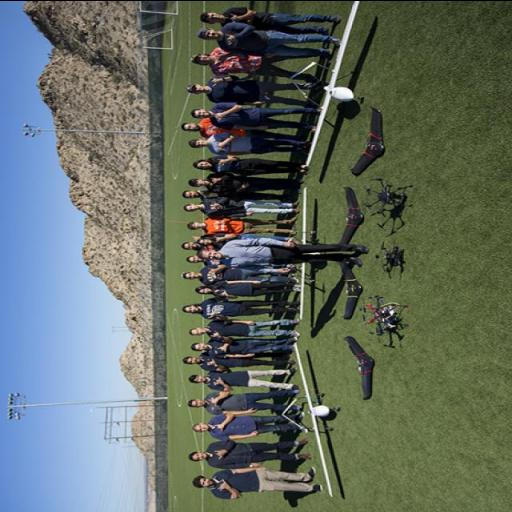uav: (332, 335, 378, 403)
